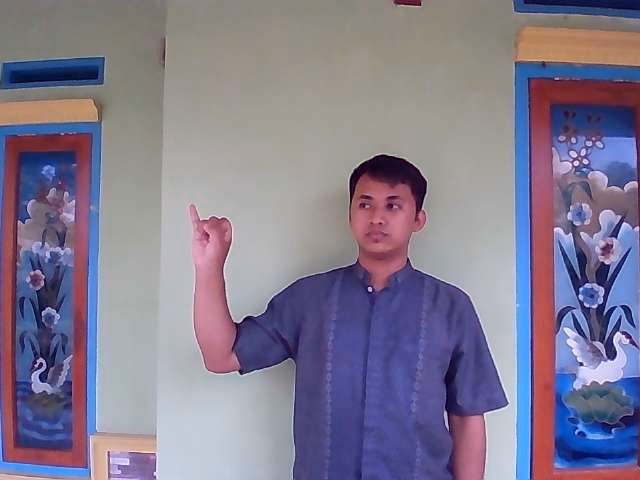I: (183, 199, 239, 282)
